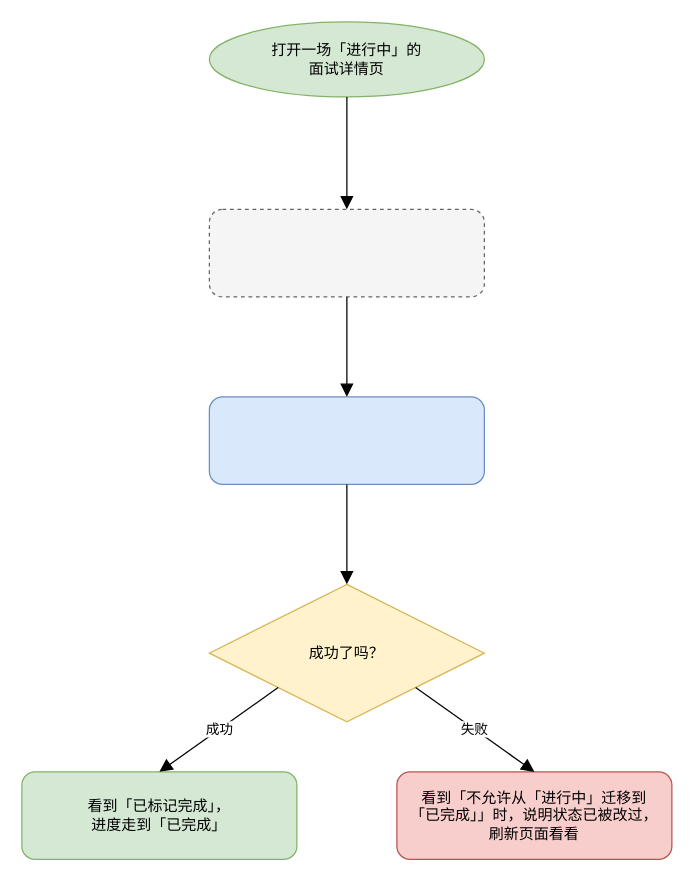
This 694x881 diagram has some shape labels left out. The box of each missing label's shape, as (x1, y1, x2, y2) in pixels:
点页头右上角的「标记完成」: (208, 396, 484, 484)
题目还没记完也没关系 —— 没记回答的题，评估时按 0 分算: (208, 208, 484, 297)
